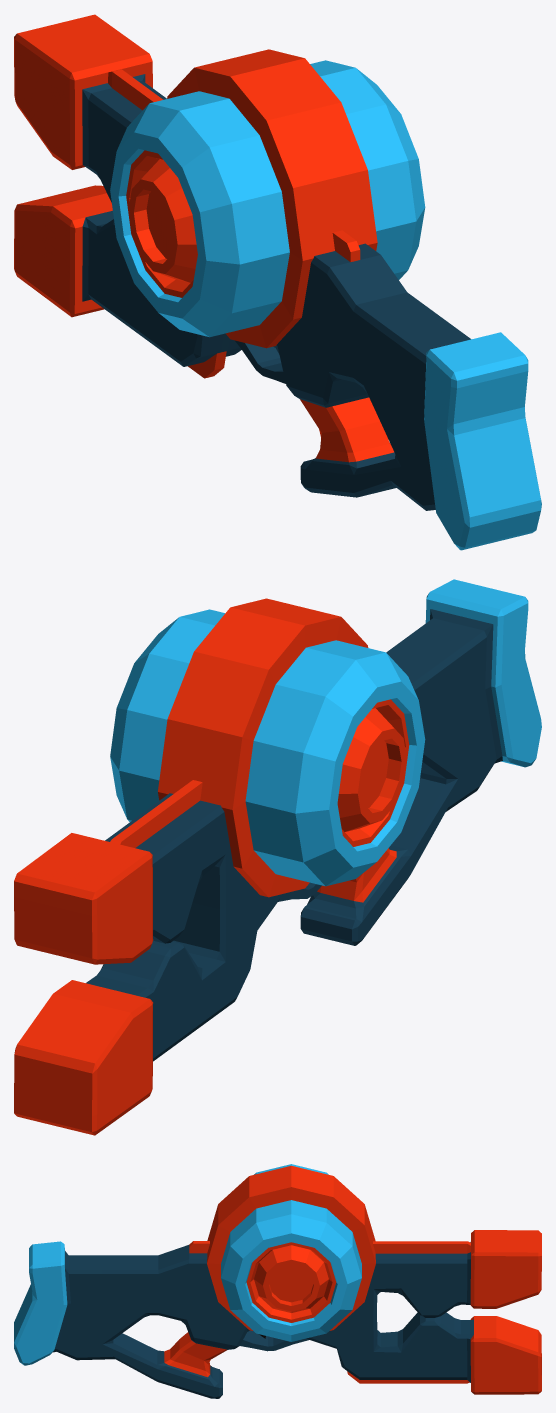
Rendered from shotgun.glb.
3 renders of one model, top to bottom at view 1: azimuth 30°, elevation 25°; view 2: azimuth 150°, elevation 25°; view 3: azimuth 270°, elevation 25°, orthographic. The views are drawn at different scales.
Visible parts, largest first — view 1: Lightning_Gun; view 2: Lightning_Gun; view 3: Lightning_Gun.
Part boxes in pixels (<box>): Lightning_Gun: <box>14,14,541,550</box>; Lightning_Gun: <box>14,579,541,1135</box>; Lightning_Gun: <box>14,1164,541,1398</box>.
Size of the model in its own units: 140 by 216 by 480.
